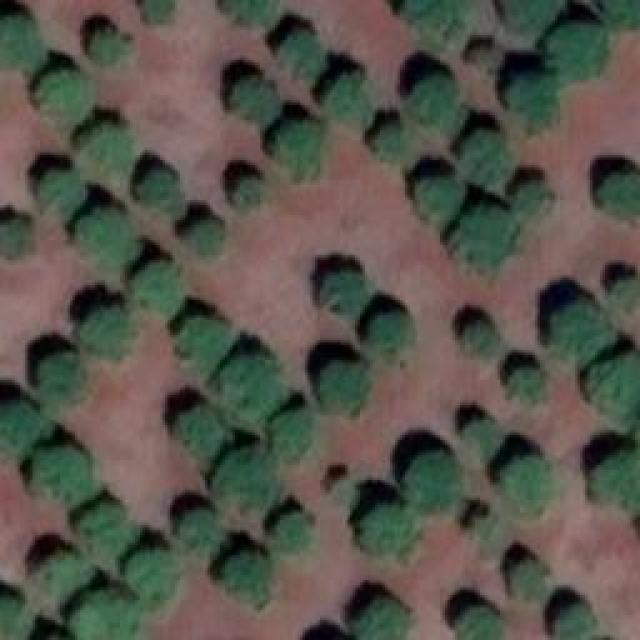Tree: (445, 198, 522, 270), (543, 290, 611, 365), (75, 202, 146, 272), (410, 453, 473, 521), (548, 15, 610, 82), (268, 123, 337, 183), (498, 65, 561, 130), (215, 448, 277, 512), (458, 123, 520, 186), (395, 0, 476, 48), (128, 545, 193, 603), (128, 260, 188, 322), (220, 361, 285, 418), (225, 552, 289, 609), (27, 545, 85, 603), (407, 67, 464, 126), (411, 170, 468, 229), (0, 400, 55, 461), (78, 590, 143, 640), (595, 358, 640, 428), (43, 447, 95, 506), (360, 505, 412, 564), (503, 450, 553, 511), (265, 408, 322, 461), (33, 68, 89, 121), (78, 123, 134, 175), (595, 448, 640, 511), (33, 350, 86, 403), (275, 20, 326, 75), (365, 313, 422, 361), (315, 360, 362, 418), (85, 298, 135, 351), (0, 8, 42, 70), (175, 404, 225, 456), (178, 318, 228, 369), (270, 510, 319, 562), (318, 265, 367, 317), (598, 160, 639, 220), (132, 163, 179, 215), (460, 410, 507, 462), (327, 80, 372, 134), (83, 508, 131, 557), (358, 590, 406, 639), (458, 515, 508, 562), (37, 165, 82, 217), (508, 168, 552, 221), (228, 75, 277, 122), (505, 560, 557, 602), (223, 168, 266, 217), (500, 0, 559, 35), (218, 0, 286, 29), (180, 215, 220, 264), (555, 603, 607, 640), (0, 592, 40, 640), (458, 600, 505, 640), (373, 118, 412, 165), (457, 323, 502, 363), (508, 363, 550, 404), (0, 215, 32, 266), (90, 28, 130, 68), (175, 503, 212, 546), (468, 40, 498, 72), (617, 273, 639, 313), (138, 0, 175, 23), (328, 475, 354, 501)
